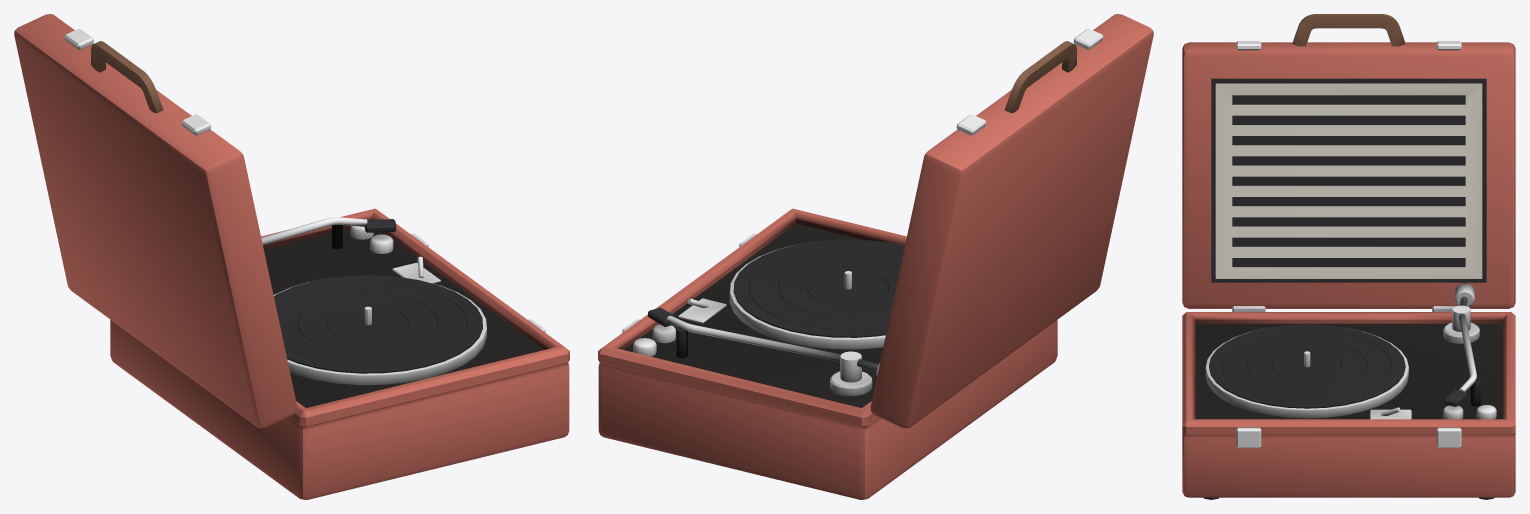
Rendered from junk_record.glb.
The picture shows the model from 3 angles, left to right: view 1: azimuth 30°, elevation 25°; view 2: azimuth 150°, elevation 25°; view 3: azimuth 270°, elevation 25°; orthographic projection. The views are drawn at different scales.
Visible parts, largest first — view 1: LID, PART, KNOB_platter, LEVER_arm; view 2: LID, PART, KNOB_platter, LEVER_arm; view 3: LID, PART, KNOB_platter, LEVER_arm.
Part boxes in pixels (x1=…): LID: x1=14, y1=14, x2=297, y2=428; PART: x1=110, y1=208, x2=569, y2=499; KNOB_platter: x1=273, y1=275, x2=486, y2=385; LEVER_arm: x1=261, y1=217, x2=396, y2=245; LID: x1=870, y1=14, x2=1153, y2=428; PART: x1=598, y1=208, x2=1057, y2=499; KNOB_platter: x1=729, y1=239, x2=904, y2=349; LEVER_arm: x1=648, y1=307, x2=879, y2=375; LID: x1=1182, y1=14, x2=1515, y2=308; PART: x1=1182, y1=305, x2=1515, y2=499; KNOB_platter: x1=1205, y1=324, x2=1408, y2=418; LEVER_arm: x1=1444, y1=283, x2=1476, y2=406.
Size of the model in its own units: 0.4408 by 0.4558 by 0.4.
